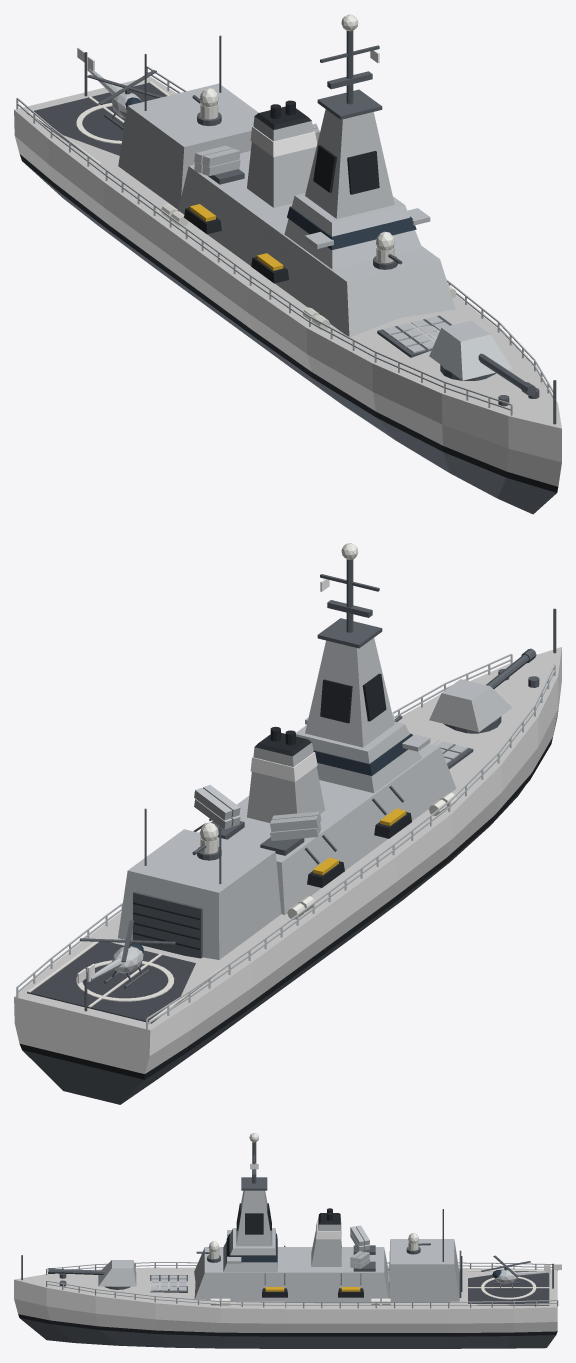
Rendered from warship.glb.
3 renders of one model, top to bottom at view 1: azimuth 30°, elevation 25°; view 2: azimuth 150°, elevation 25°; view 3: azimuth 270°, elevation 25°, orthographic. The views are drawn at different scales.
Visible parts, largest first — view 1: Warship; view 2: Warship; view 3: Warship.
Part boxes in pixels (x1=…): Warship: x1=14, y1=14, x2=561, y2=514; Warship: x1=14, y1=543, x2=561, y2=1104; Warship: x1=14, y1=1133, x2=561, y2=1348.
Bounding box in the file's own units: 0.18 × 0.42 × 1.01.
